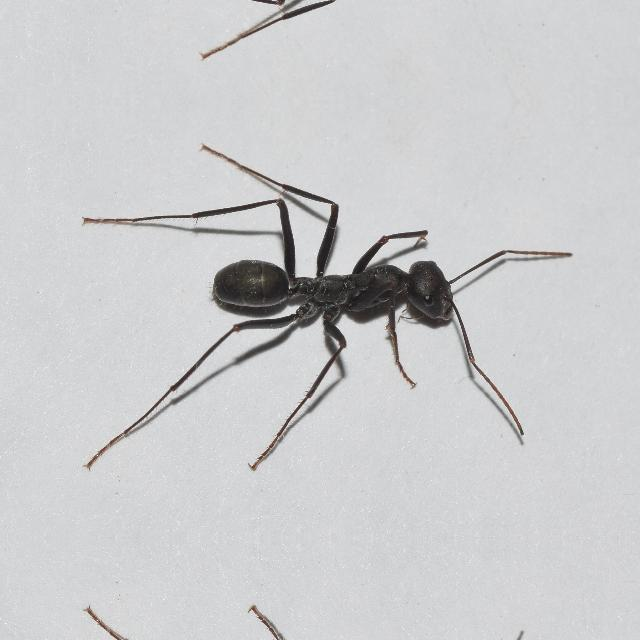Cataglyphis: (175, 200, 530, 382)
